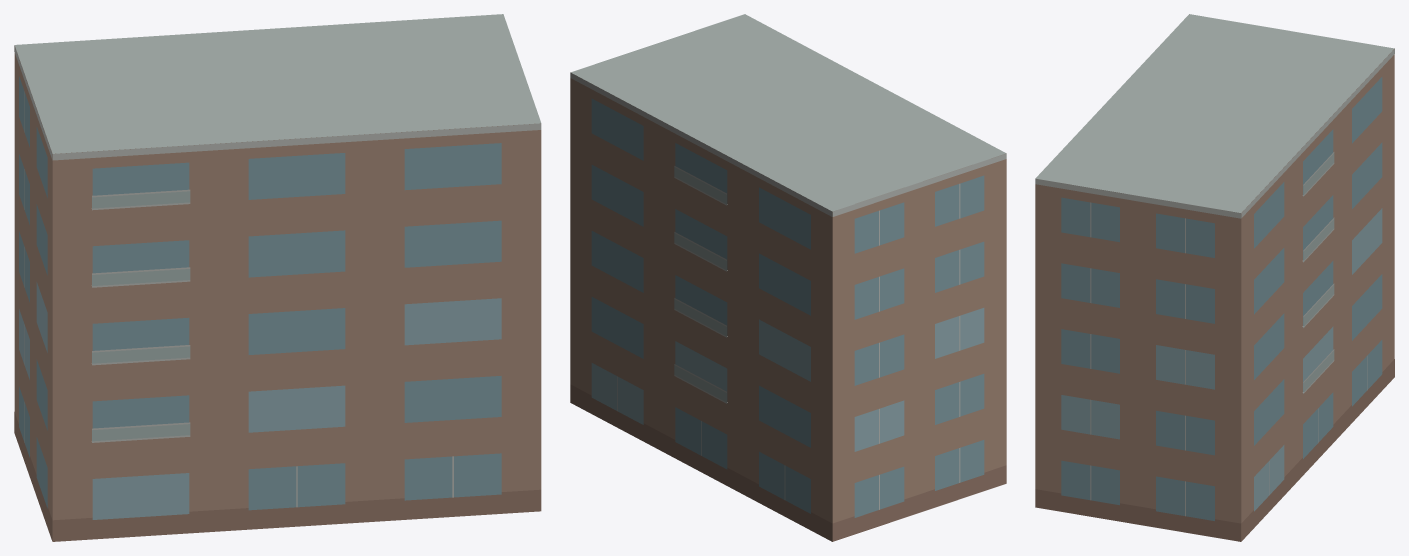
The model's file is survey-upis-32725668.glb.
3 views of the same model, side by side, from view 1: azimuth 30°, elevation 25°; view 2: azimuth 150°, elevation 25°; view 3: azimuth 270°, elevation 25° (orthographic). The views are drawn at different scales.
Visible parts, largest first — view 1: survey-upis-32725668.tmp; view 2: survey-upis-32725668.tmp; view 3: survey-upis-32725668.tmp.
Boxes of the visible parts, box(x1,y1,x2,y2) form: survey-upis-32725668.tmp: box(14, 14, 541, 541); survey-upis-32725668.tmp: box(570, 14, 1006, 541); survey-upis-32725668.tmp: box(1035, 14, 1394, 541).
Size of the model in its own units: 18.71 by 14.4 by 14.28.
